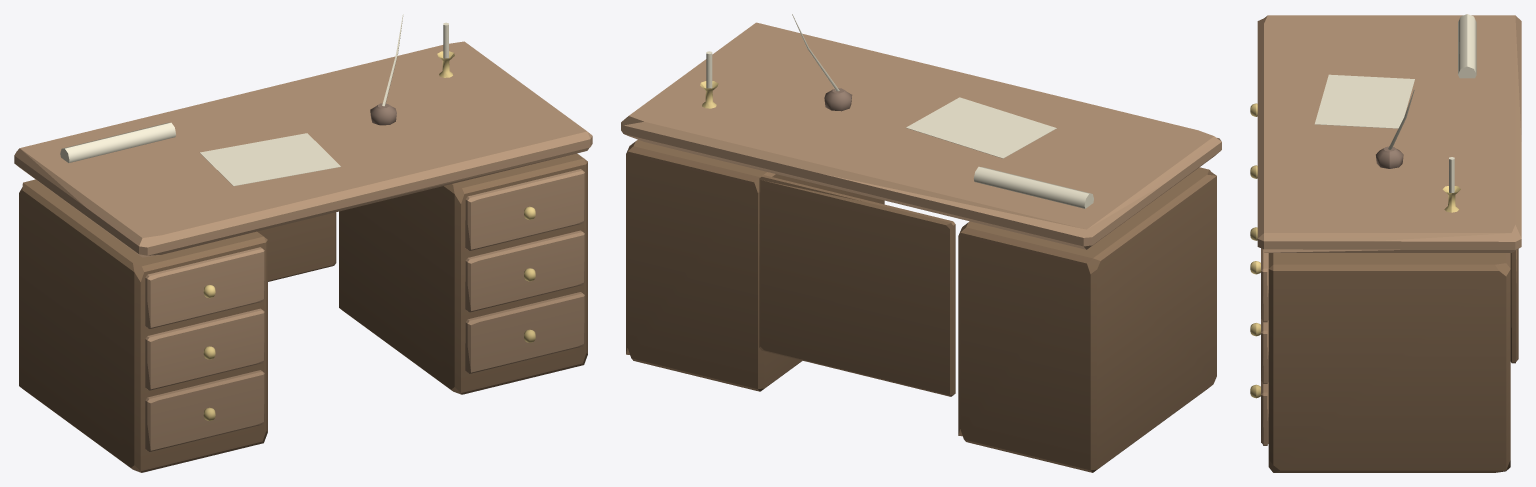
File: kajuete_schreibtisch.glb
The picture shows the model from 3 angles, left to right: view 1: azimuth 30°, elevation 25°; view 2: azimuth 150°, elevation 25°; view 3: azimuth 270°, elevation 25°; orthographic projection. The views are drawn at different scales.
Parts seen in each view (by area): view 1: G_kajuete_schreibtisch; view 2: G_kajuete_schreibtisch; view 3: G_kajuete_schreibtisch.
Boxes of the visible parts, x1,y1,x2,y2 form: G_kajuete_schreibtisch: (14, 14, 592, 472); G_kajuete_schreibtisch: (621, 14, 1221, 472); G_kajuete_schreibtisch: (1250, 14, 1521, 472).
Size of the model in its own units: 1.7 by 1.17 by 0.874.
